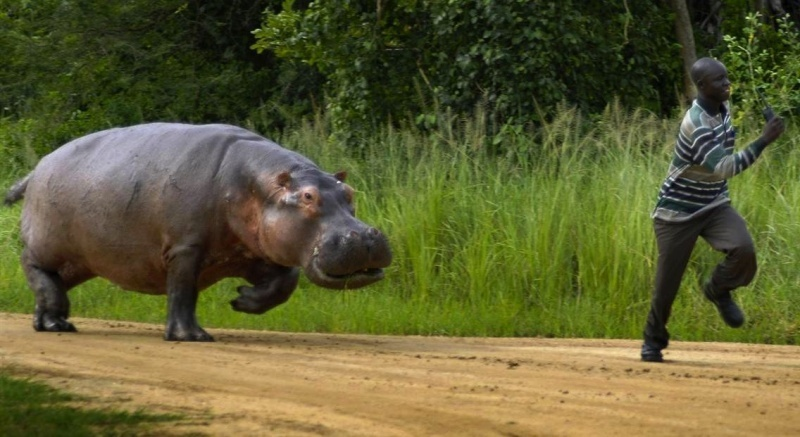hipopotamo: (1, 118, 415, 352)
